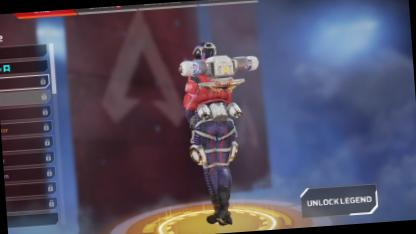Target: (176, 38, 258, 196)
